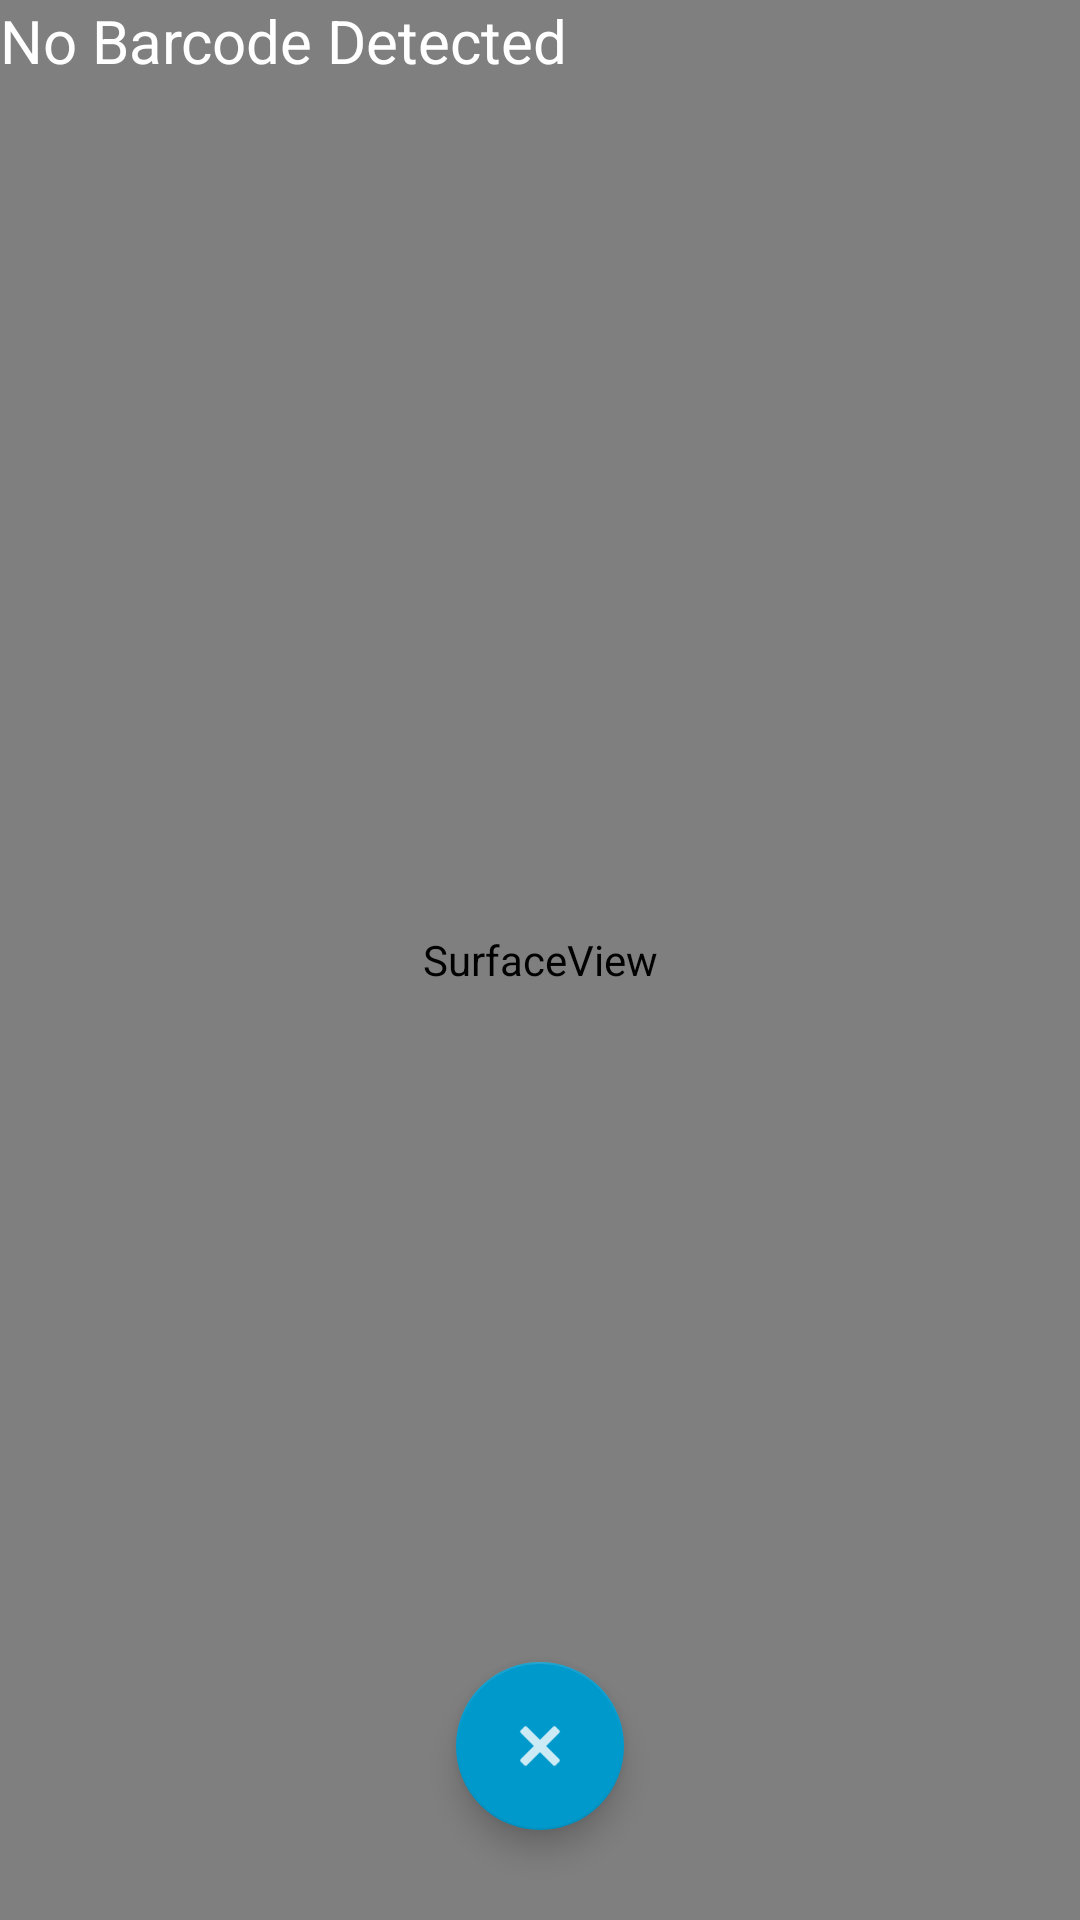

Icon bounding boxes for this 1080×1920 phone screenshot, format (x1, y1, x2, y2):
cancel load: (456, 1662, 624, 1830)
